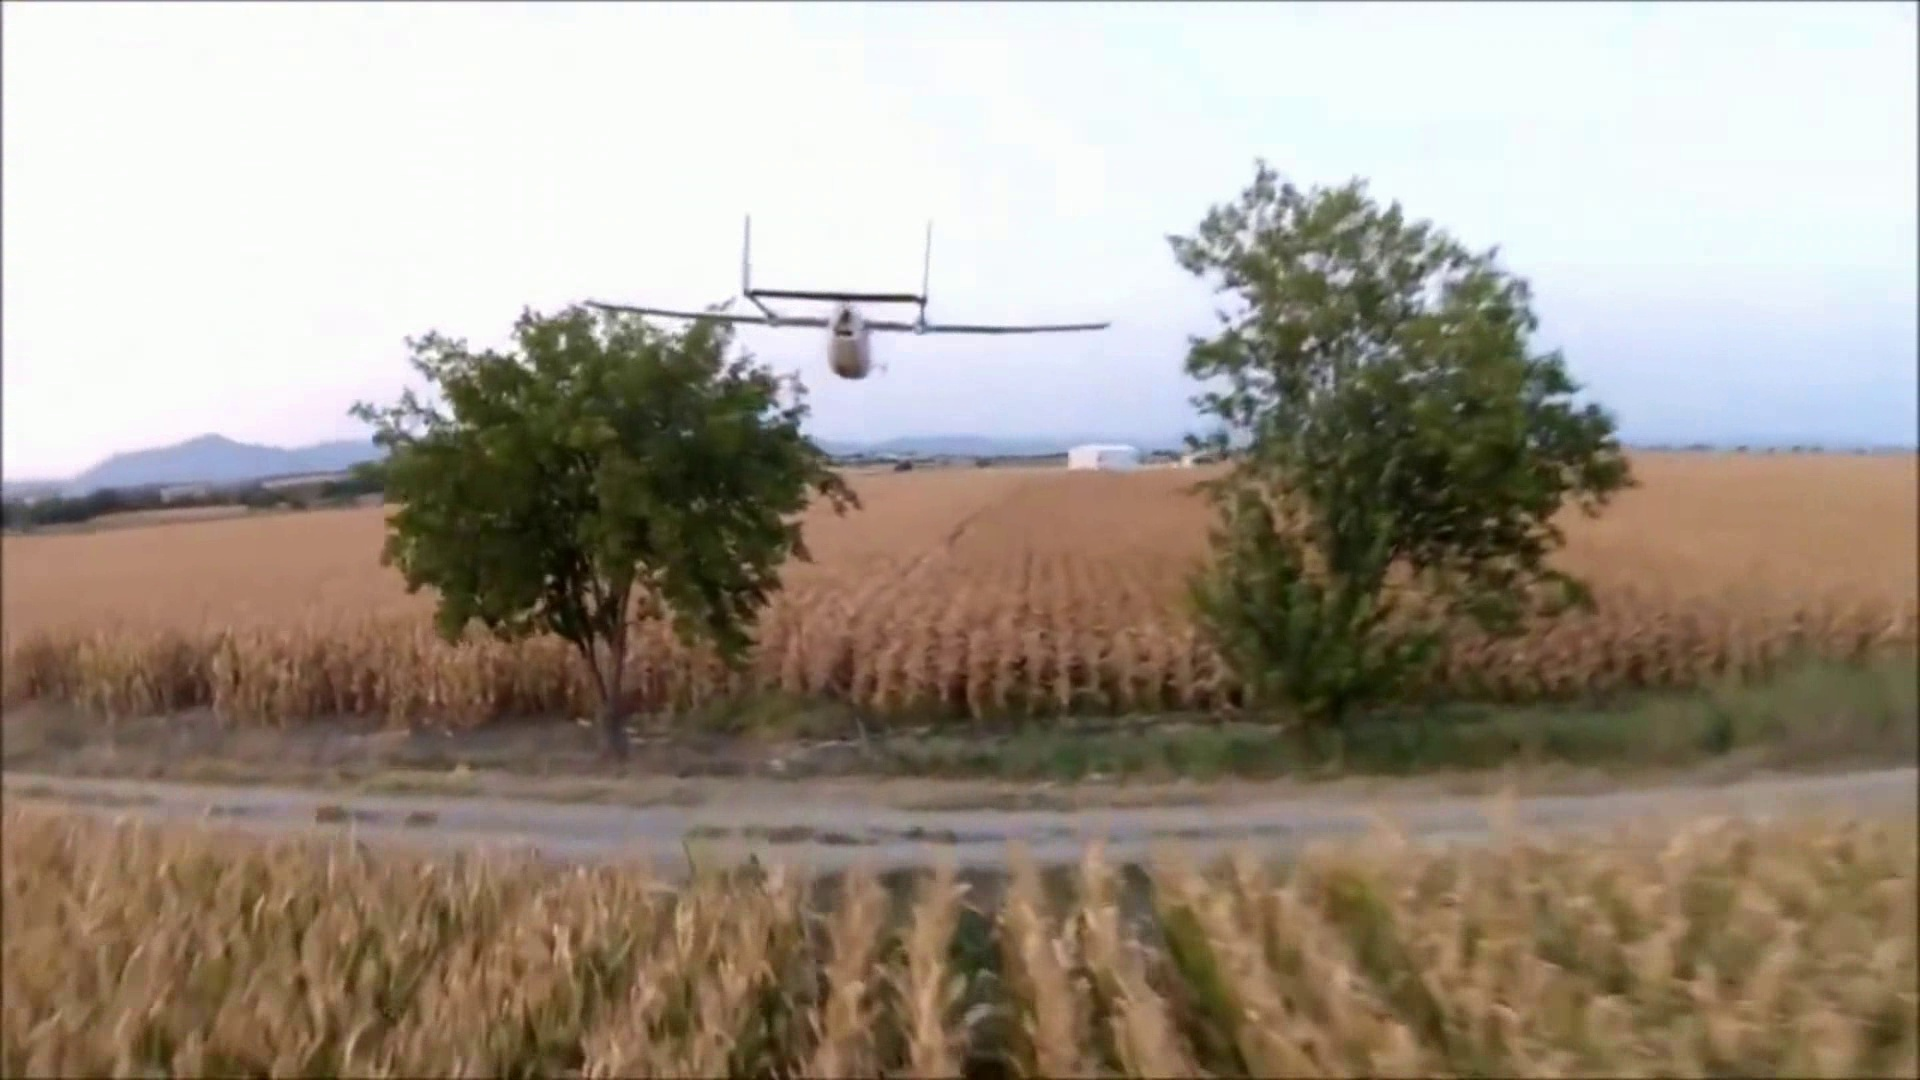airplane: (572, 212, 1117, 384)
